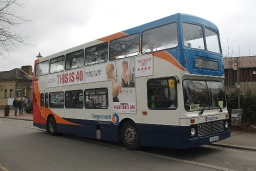bus: (32, 12, 232, 152)
